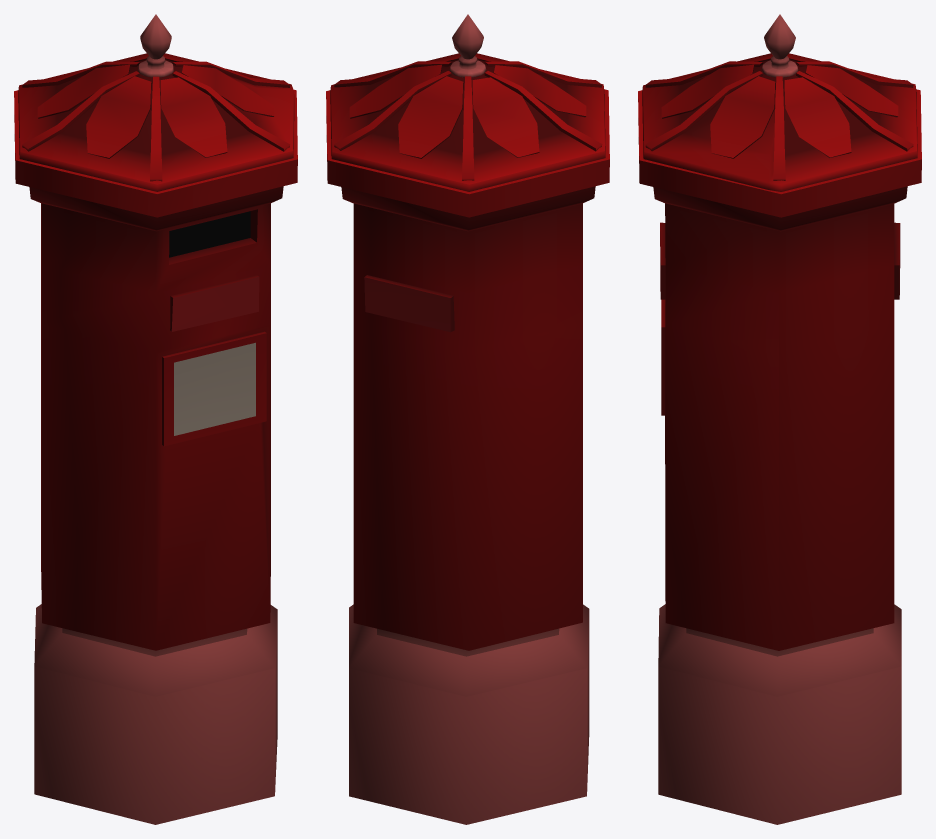
The model's file is RoyalMailbox_Spiked.fbx.
3 views of the same model, side by side, from view 1: azimuth 30°, elevation 25°; view 2: azimuth 150°, elevation 25°; view 3: azimuth 270°, elevation 25° (orthographic).
Visible parts, largest first — view 1: RoyalMailbox_Spiked; view 2: RoyalMailbox_Spiked; view 3: RoyalMailbox_Spiked.
Part boxes in pixels (left/top/right/bottom): RoyalMailbox_Spiked: left=14, top=14, right=297, bottom=824; RoyalMailbox_Spiked: left=326, top=14, right=609, bottom=824; RoyalMailbox_Spiked: left=638, top=14, right=921, bottom=824.
Size of the model in its own units: 66.94 by 170 by 58.22.
